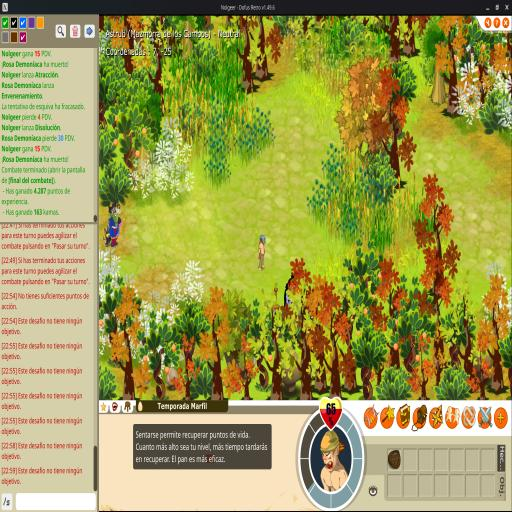Personaje: (258, 235, 266, 271)
